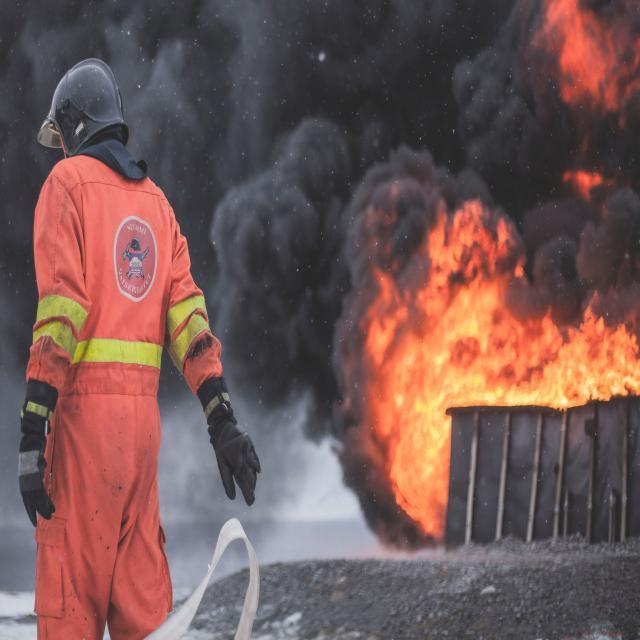Smoke: (166, 13, 434, 232)
